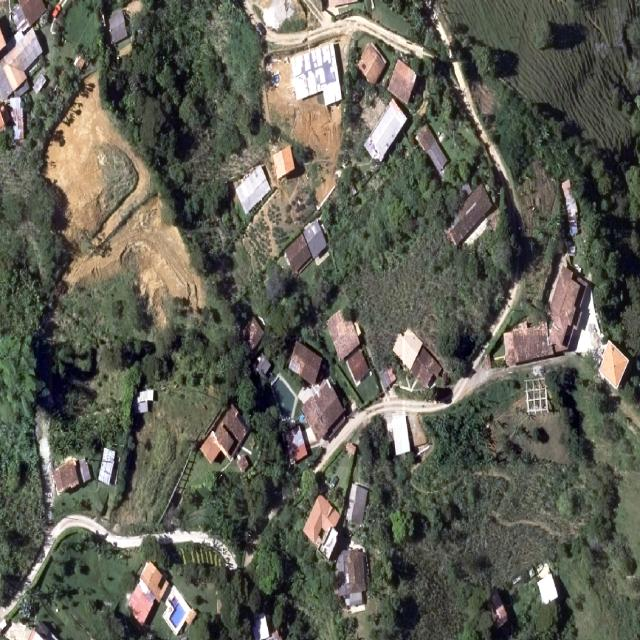Batiment: (504, 266, 585, 366), (291, 42, 341, 104), (0, 29, 42, 100), (448, 185, 492, 244), (364, 100, 406, 161), (302, 380, 345, 439), (129, 561, 169, 623), (214, 405, 249, 459), (304, 495, 340, 542), (336, 549, 366, 605), (236, 166, 270, 213), (416, 125, 448, 174), (328, 310, 359, 358), (289, 341, 322, 384), (599, 341, 629, 388), (388, 60, 416, 104), (358, 42, 386, 84), (394, 330, 422, 369), (285, 235, 311, 274), (346, 349, 370, 386), (346, 484, 368, 524), (54, 459, 80, 492), (525, 378, 549, 413), (304, 220, 326, 257), (538, 563, 558, 603), (392, 414, 410, 455), (272, 146, 295, 178), (288, 426, 308, 462), (244, 316, 264, 351), (109, 8, 128, 43), (99, 447, 115, 483), (201, 434, 220, 463), (320, 528, 338, 558), (138, 389, 154, 412), (381, 368, 396, 389), (256, 355, 271, 375), (79, 459, 91, 483)
